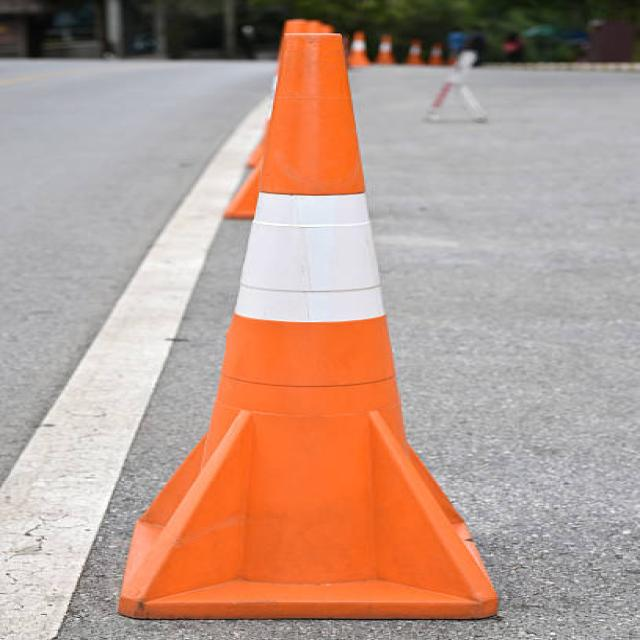Traffic Cone: (86, 12, 554, 631)
